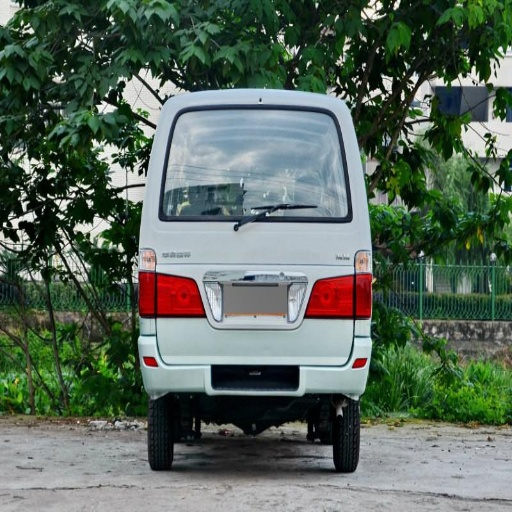back_bumper: (137, 317, 368, 409)
tailgate: (157, 222, 336, 329)
trunk: (293, 225, 359, 323), (158, 257, 218, 329)
